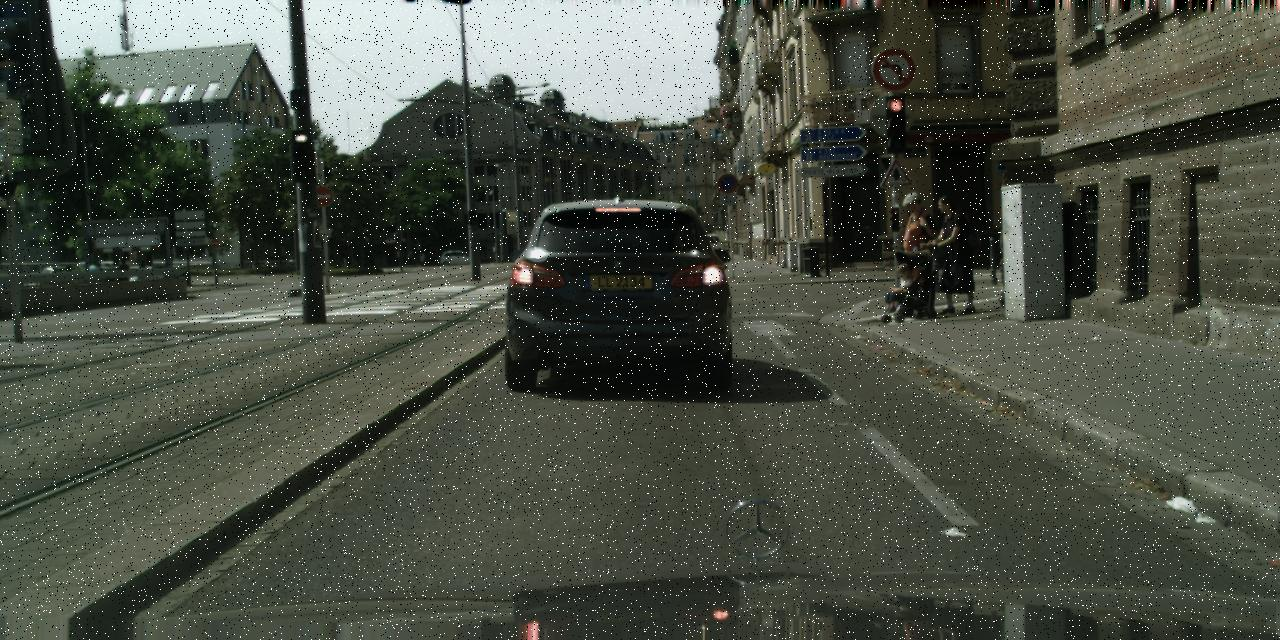ped: (928, 196, 976, 313), (892, 192, 939, 308), (88, 260, 103, 297), (117, 259, 131, 295), (136, 260, 150, 293)
